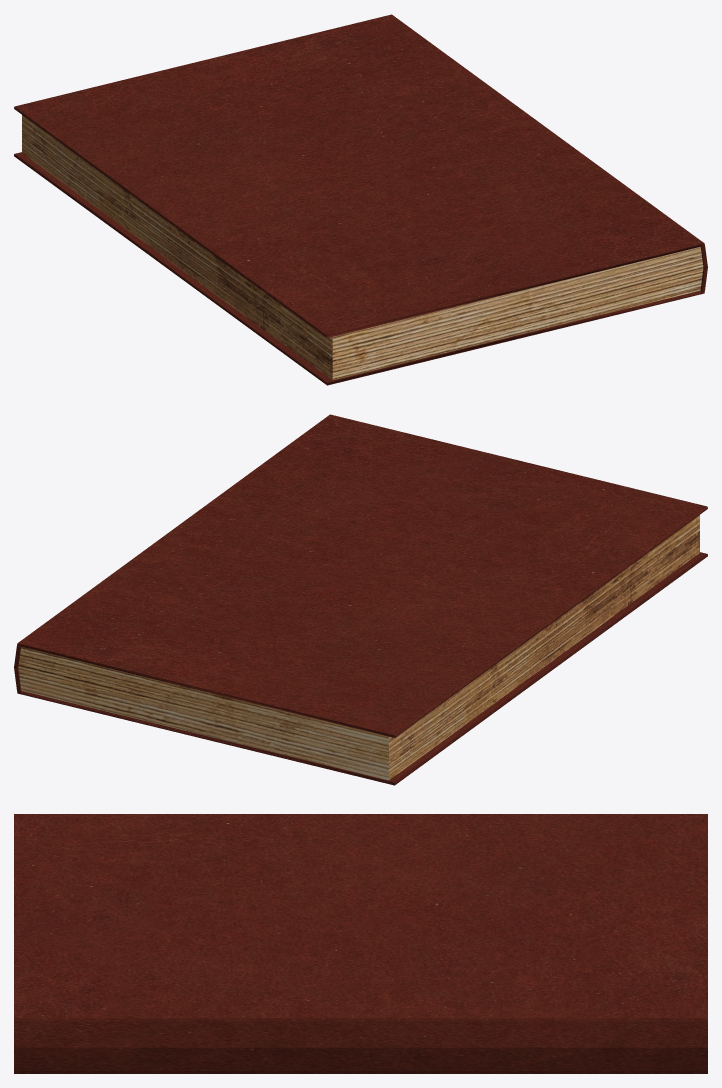
The model's file is Red_Leather_Book_old.fbx.
The picture shows the model from 3 angles, top to bottom: view 1: azimuth 30°, elevation 25°; view 2: azimuth 150°, elevation 25°; view 3: azimuth 270°, elevation 25°; orthographic projection. The views are drawn at different scales.
Parts seen in each view (by area): view 1: Book_old_red_leather; view 2: Book_old_red_leather; view 3: Book_old_red_leather.
Boxes of the visible parts, x1,y1,x2,y2 form: Book_old_red_leather: (14,14,707,385); Book_old_red_leather: (14,414,707,785); Book_old_red_leather: (14,814,707,1073).
Bounding box in the file's own units: 94.23 × 11.85 × 134.
